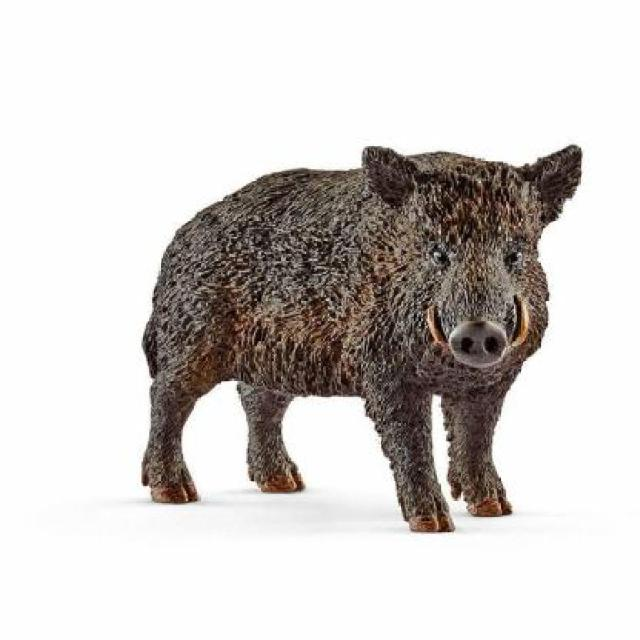wildboar: (134, 137, 597, 541)
